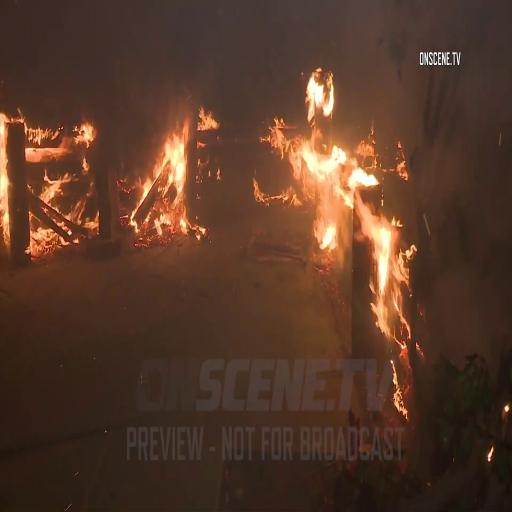fire: (292, 82, 380, 251), (0, 125, 93, 242)
